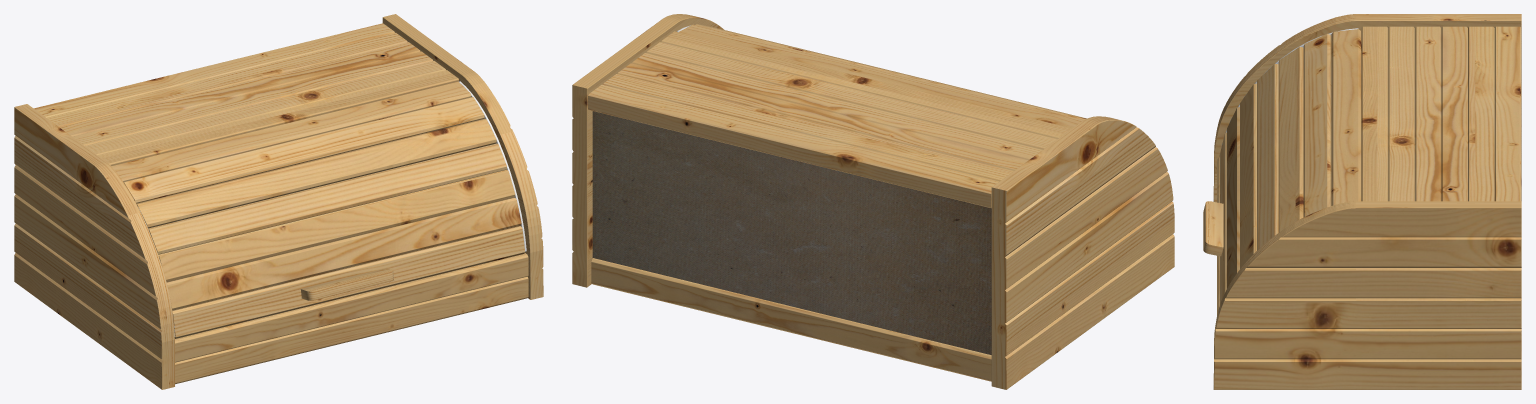
The model's file is hlebnica.fbx.
The picture shows the model from 3 angles, left to right: view 1: azimuth 30°, elevation 25°; view 2: azimuth 150°, elevation 25°; view 3: azimuth 270°, elevation 25°; orthographic projection. The views are drawn at different scales.
Visible parts, largest first — view 1: perednyaya; view 2: perednyaya, zad fanera; view 3: perednyaya.
Boxes of the visible parts, x1,y1,x2,y2 form: perednyaya: [14, 14, 543, 389]; perednyaya: [572, 14, 1174, 389]; zad fanera: [592, 111, 991, 354]; perednyaya: [1203, 14, 1521, 389].
Size of the model in its own units: 39.98 by 17.5 by 27.7.
